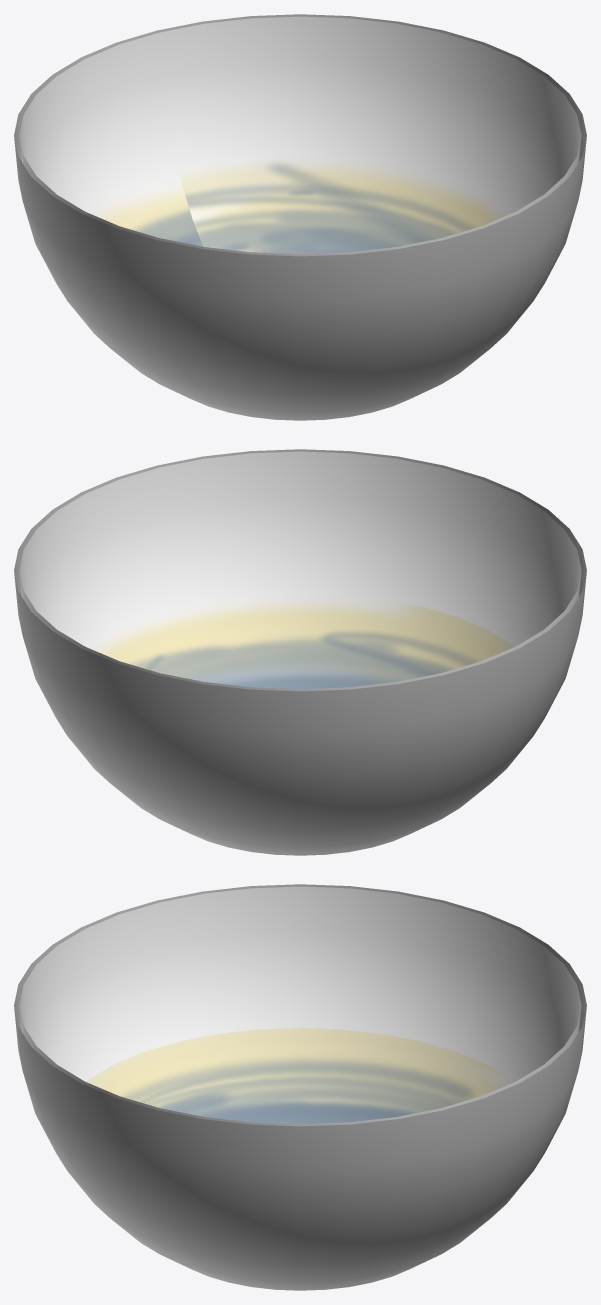
Rendered from SkyDomeRamdom.fbx.
3 renders of one model, top to bottom at view 1: azimuth 30°, elevation 25°; view 2: azimuth 150°, elevation 25°; view 3: azimuth 270°, elevation 25°, orthographic.
Visible parts, largest first — view 1: Sphere002, Sphere001; view 2: Sphere002, Sphere001; view 3: Sphere002, Sphere001.
Part boxes in pixels (left/top/right/bottom): Sphere002: left=19, top=16, right=581, bottom=256; Sphere001: left=14, top=14, right=586, bottom=420; Sphere002: left=19, top=451, right=581, bottom=691; Sphere001: left=14, top=449, right=586, bottom=855; Sphere002: left=19, top=886, right=581, bottom=1126; Sphere001: left=14, top=884, right=586, bottom=1290.
Bounding box in the file's own units: 202 × 101 × 202.
